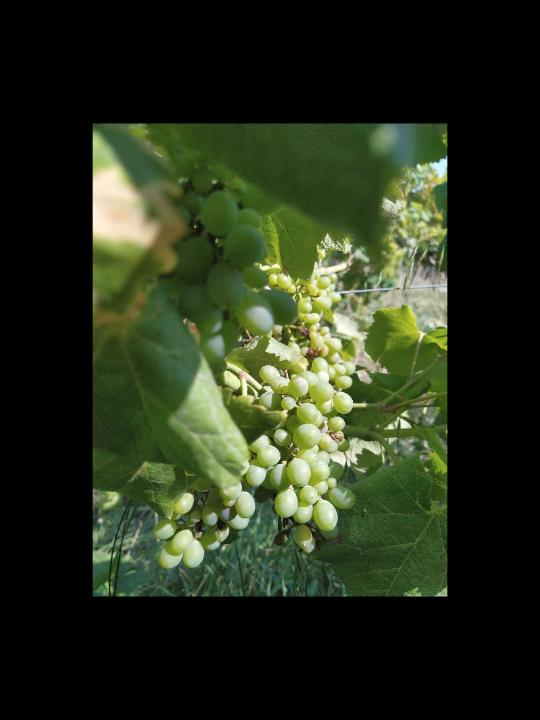grape: (151, 337, 357, 572)
